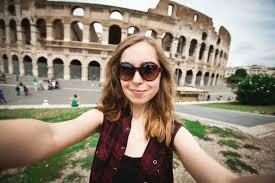face: (119, 42, 160, 104)
